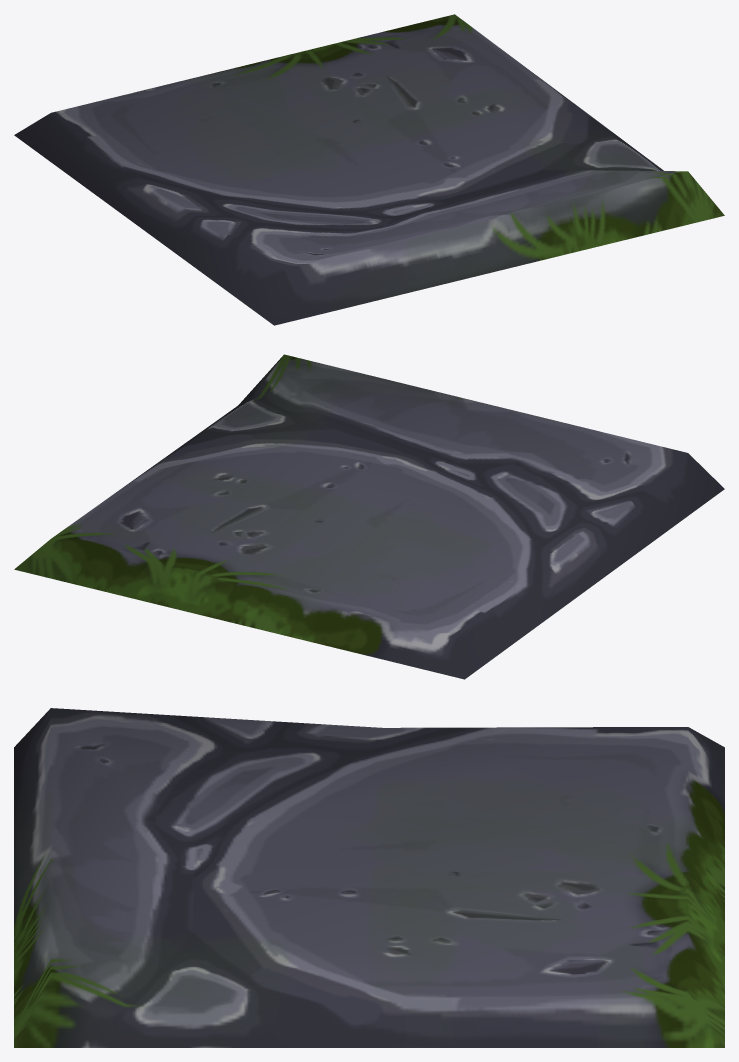
File: MOD_Floor_01_O_singlestone_7.fbx
3 renders of one model, top to bottom at view 1: azimuth 30°, elevation 25°; view 2: azimuth 150°, elevation 25°; view 3: azimuth 270°, elevation 25°, orthographic. The views are drawn at different scales.
Parts seen in each view (by area): view 1: MOD_Floor_01_O_singlestone_7; view 2: MOD_Floor_01_O_singlestone_7; view 3: MOD_Floor_01_O_singlestone_7.
Part boxes in pixels (<box>): MOD_Floor_01_O_singlestone_7: <box>14,14,724,325</box>; MOD_Floor_01_O_singlestone_7: <box>14,354,724,679</box>; MOD_Floor_01_O_singlestone_7: <box>14,708,724,1047</box>.
Bounding box in the file's own units: 100 × 8.53 × 100.
